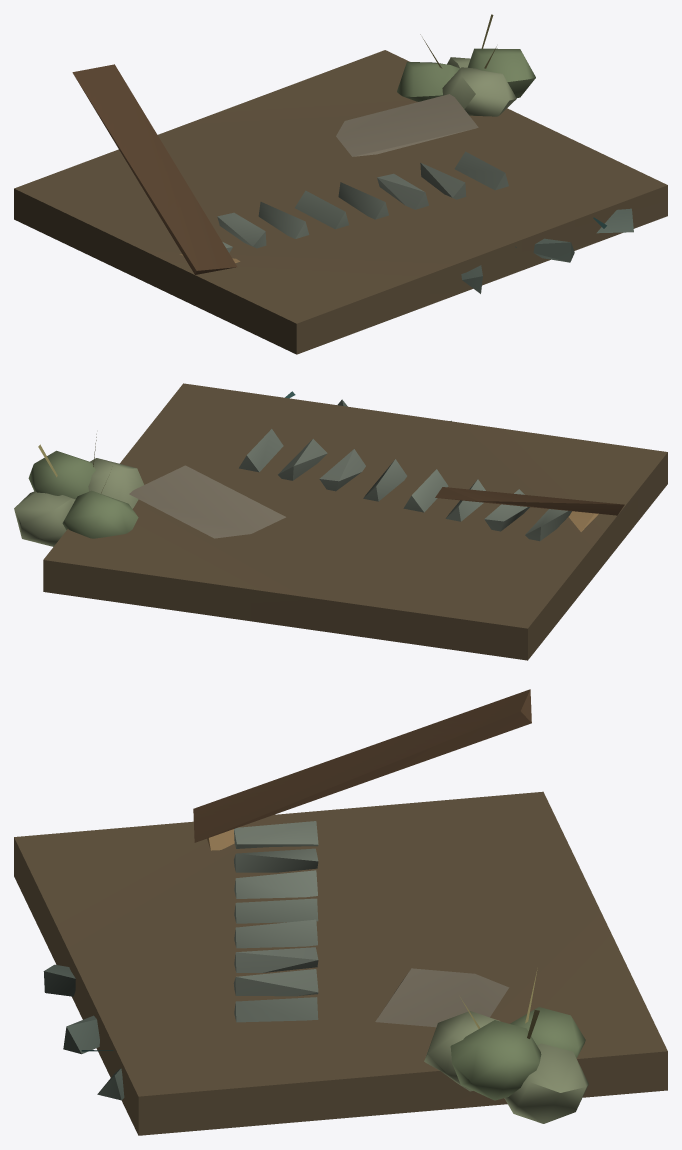
The model's file is core_trays_b_lod2.glb.
3 views of the same model, one above another, from view 1: azimuth 30°, elevation 25°; view 2: azimuth 150°, elevation 25°; view 3: azimuth 270°, elevation 25° (orthographic). The views are drawn at different scales.
Parts seen in each view (by area): view 1: Surface.001; view 2: Surface.001; view 3: Surface.001.
Boxes of the visible parts, x1,y1,x2,y2 form: Surface.001: [14, 14, 667, 354]; Surface.001: [14, 383, 667, 660]; Surface.001: [14, 689, 667, 1135].
Bounding box in the file's own units: 3.36 × 0.9001 × 3.03.
